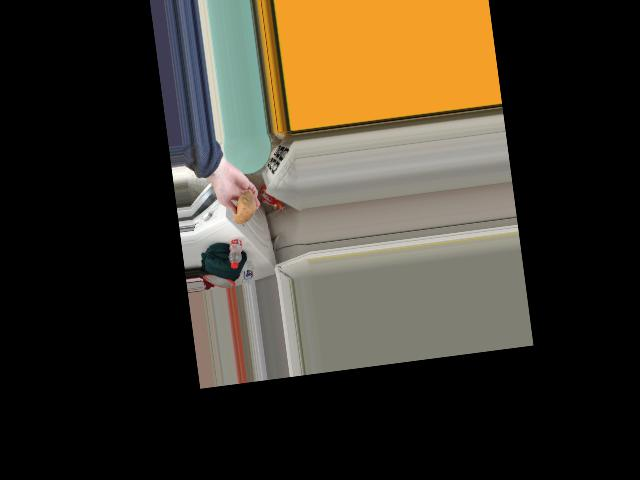sweet_potato: (232, 193, 257, 224)
